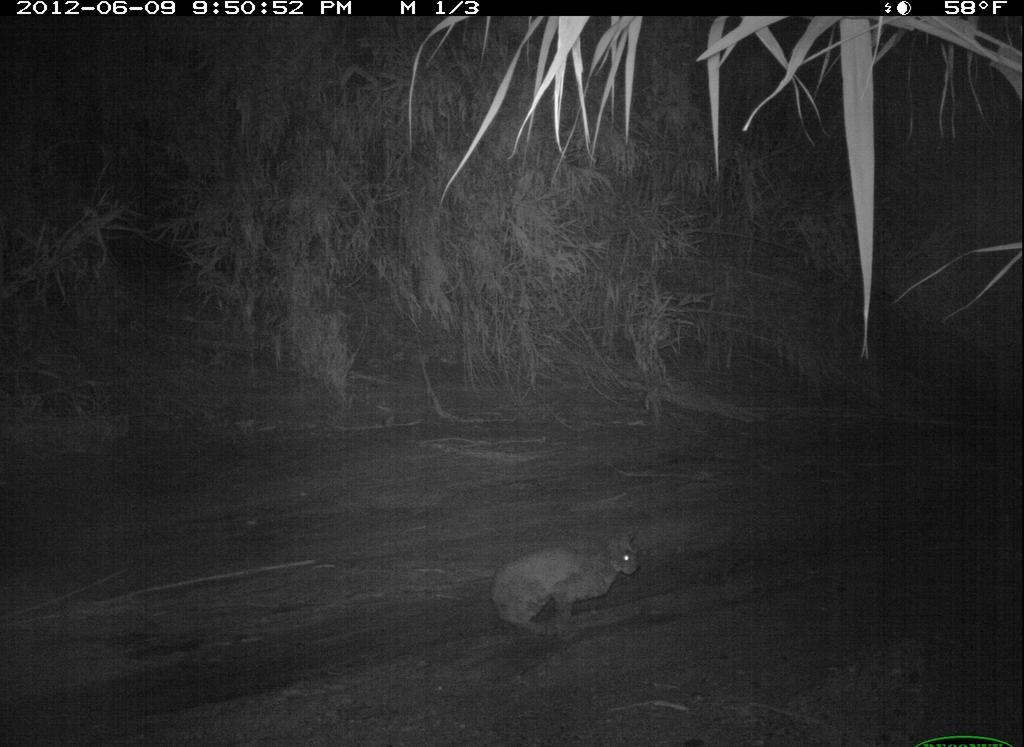bobcat: (484, 529, 648, 639)
